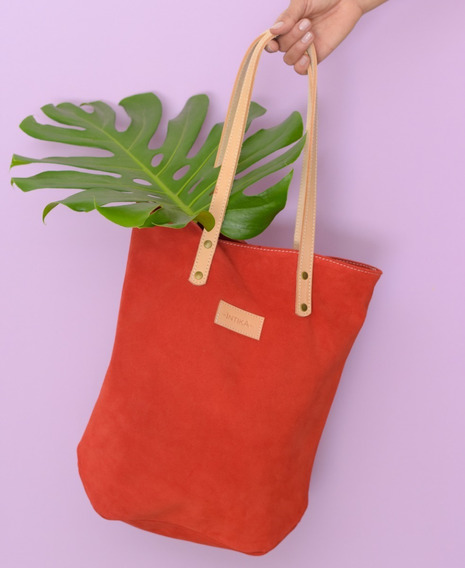cartera: (77, 21, 382, 557)
